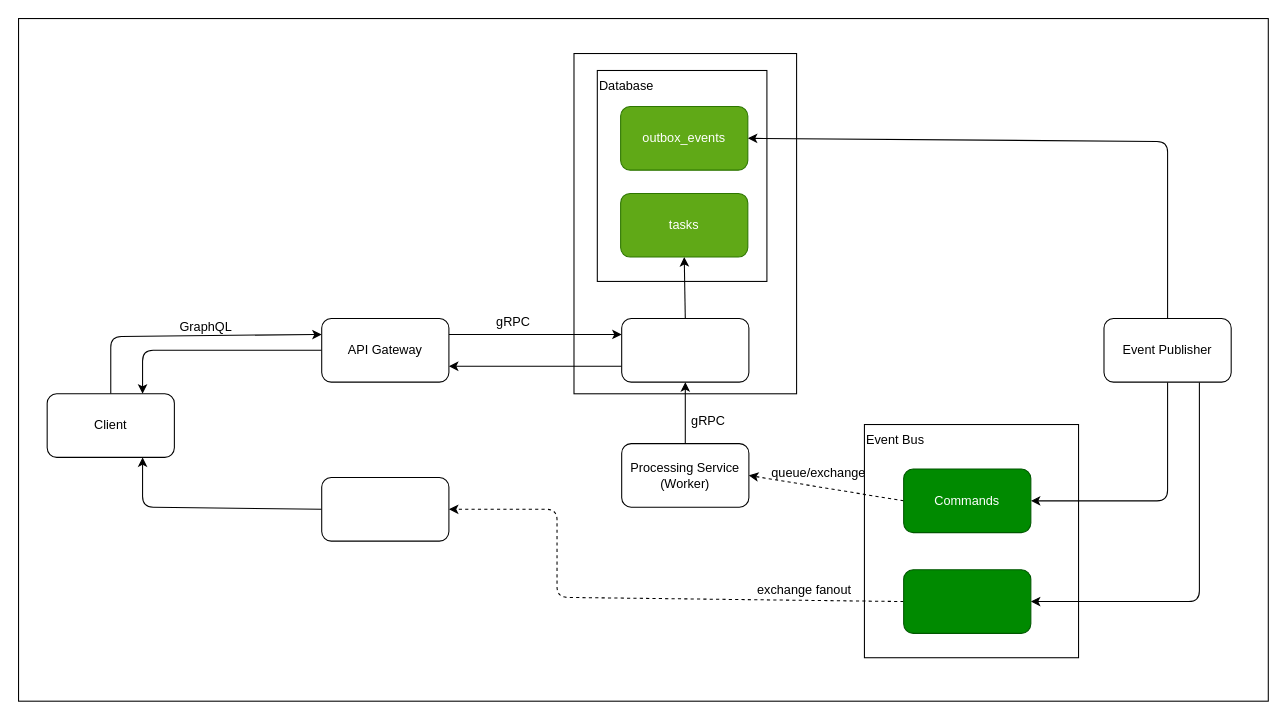
Some shapes in this 1287 by 720 pixel diagram are drawn without their labels. The centre of each missing label's shape, as x and y in pixels:
Events: pixel 967 601
Task Service: pixel 685 349
WebSocket Service: pixel 385 508
